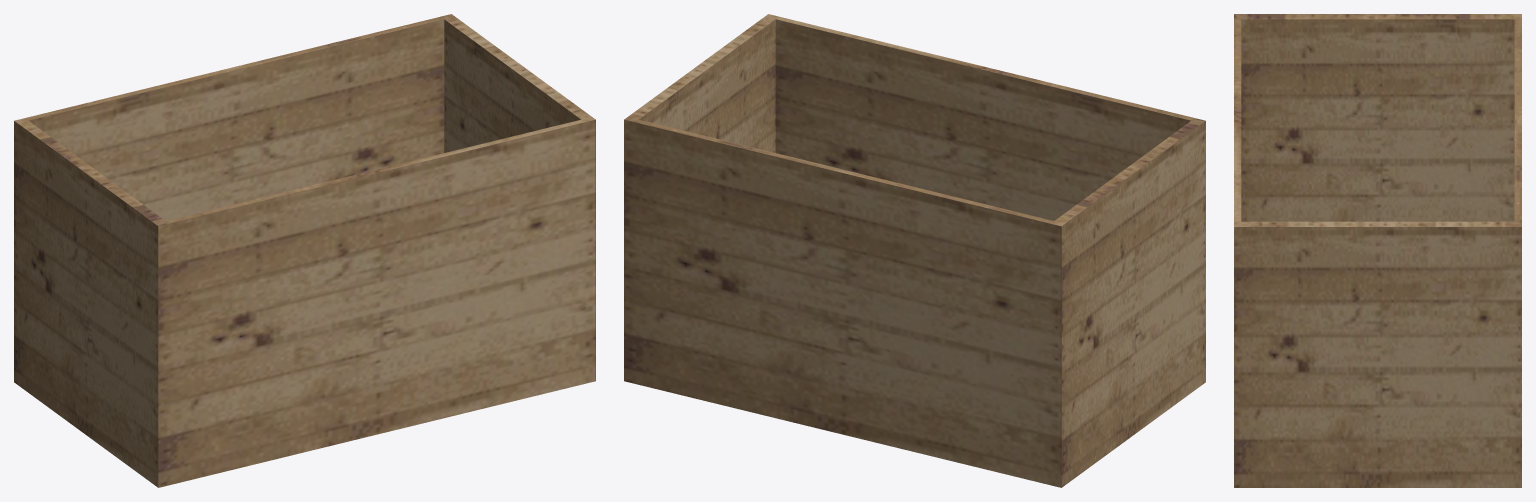
The model's file is SM_Wooden_Create_02_Chest.fbx.
The picture shows the model from 3 angles, left to right: view 1: azimuth 30°, elevation 25°; view 2: azimuth 150°, elevation 25°; view 3: azimuth 270°, elevation 25°; orthographic projection.
Parts seen in each view (by area): view 1: SM_Wooden_Create_02_Chest; view 2: SM_Wooden_Create_02_Chest; view 3: SM_Wooden_Create_02_Chest.
Part boxes in pixels (x1,y1,x2,y2): SM_Wooden_Create_02_Chest: (14, 14, 595, 487); SM_Wooden_Create_02_Chest: (624, 14, 1205, 487); SM_Wooden_Create_02_Chest: (1234, 14, 1521, 487).
Bounding box in the file's own units: 140 × 80 × 80.
